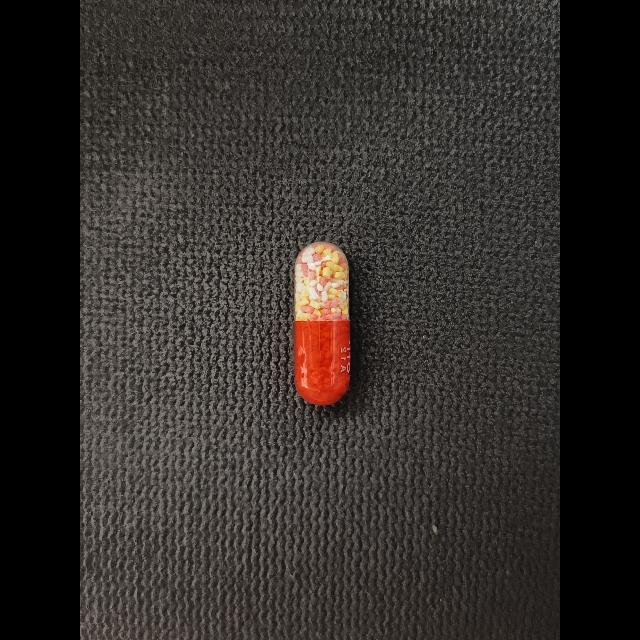Intact Capsule: (294, 242, 350, 405)
